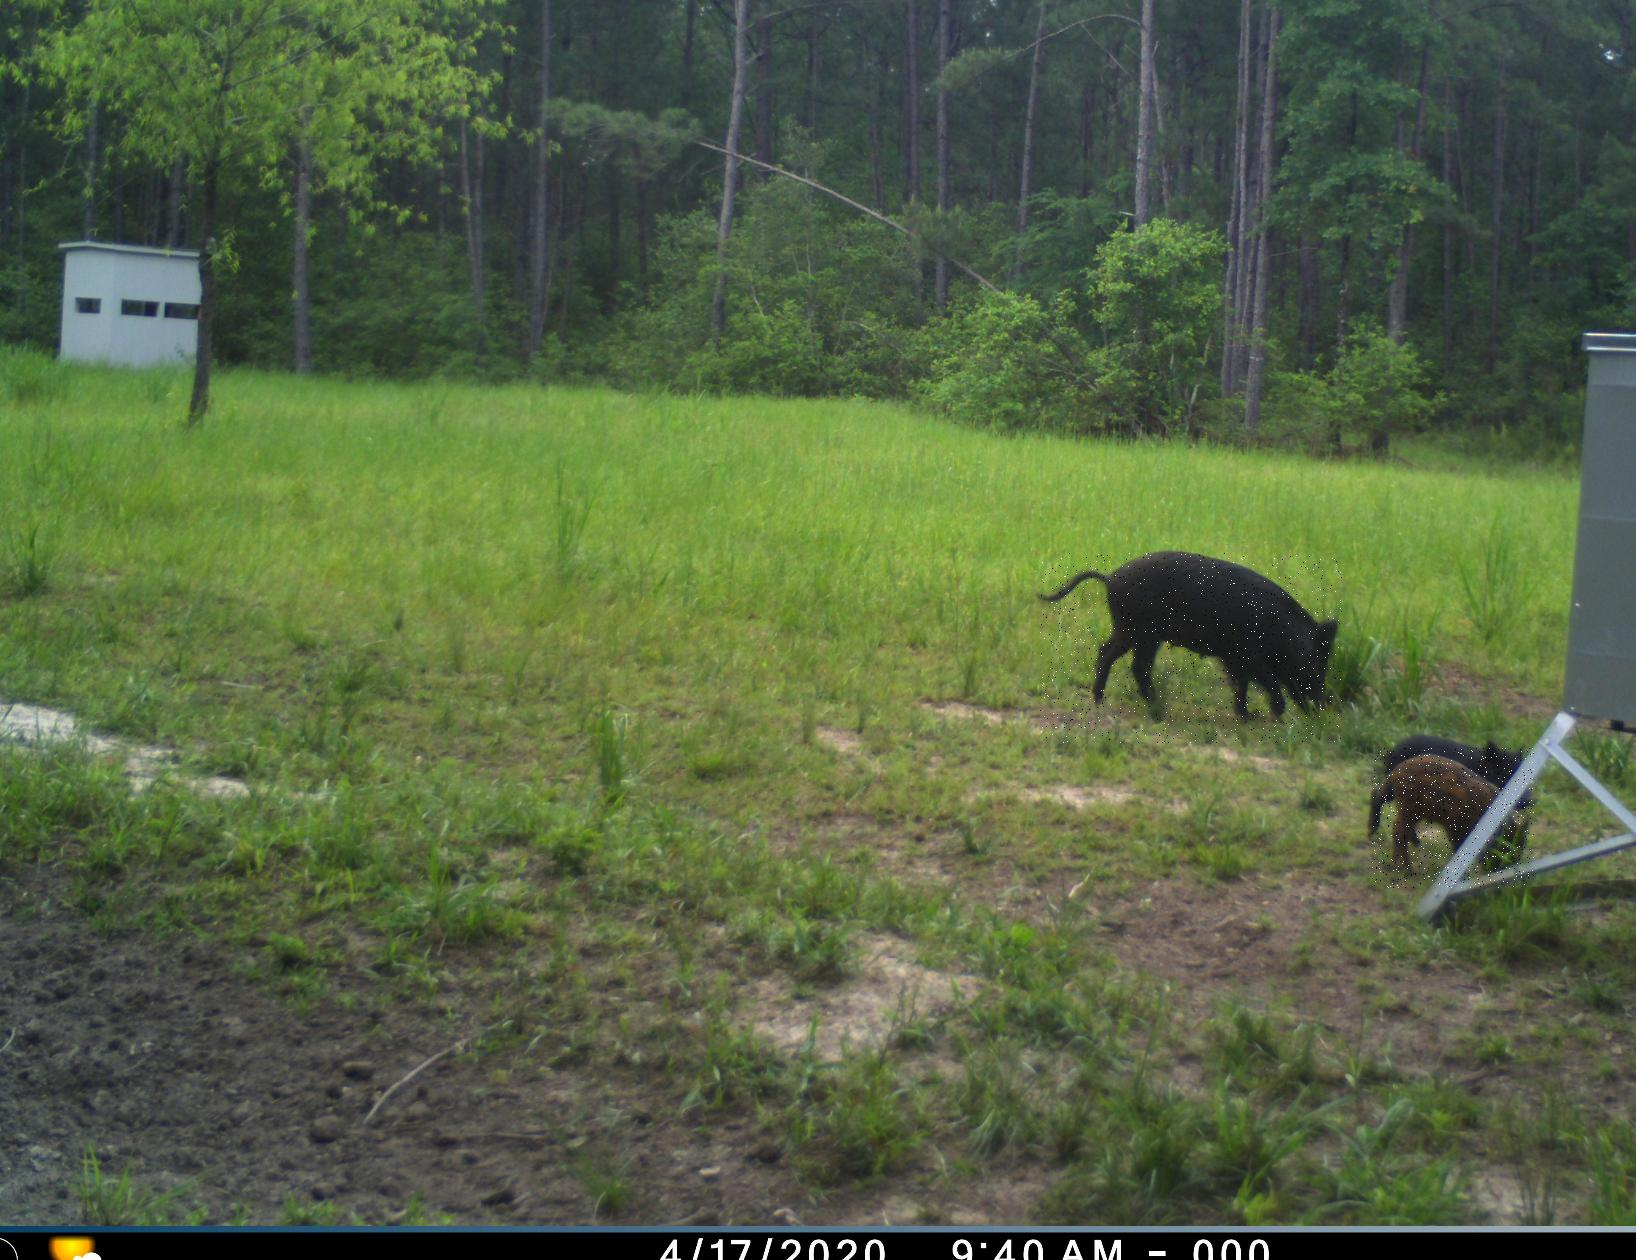Hog: (1040, 553, 1342, 742), (1373, 748, 1534, 888)
